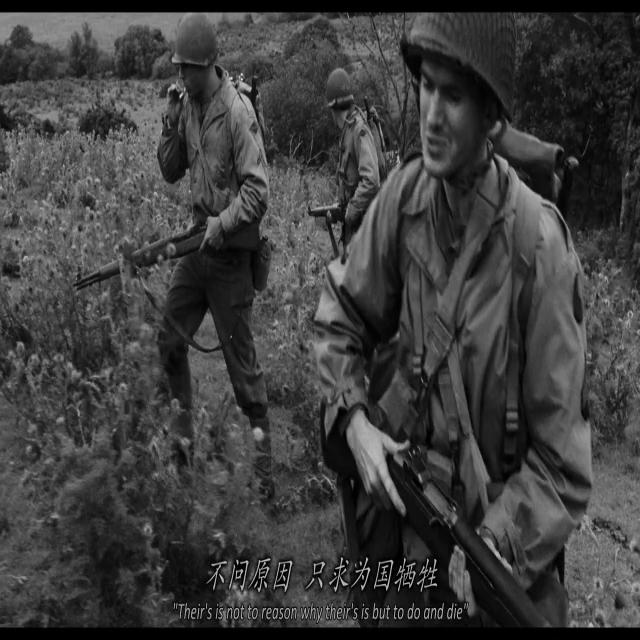Rifle: (394, 429, 577, 640), (65, 203, 226, 306), (300, 191, 347, 238)
